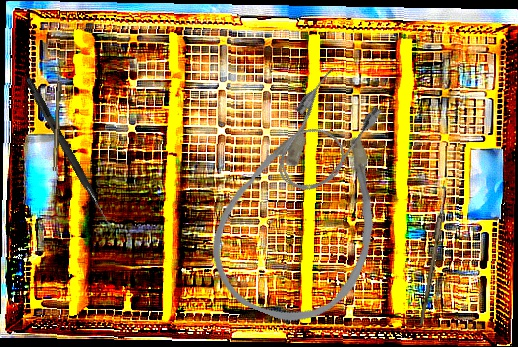Cannula: (194, 90, 412, 341), (258, 62, 388, 206)
Hook Surgical: (22, 76, 119, 235), (52, 67, 63, 172)
Surgical Spoon: (419, 175, 450, 326)
